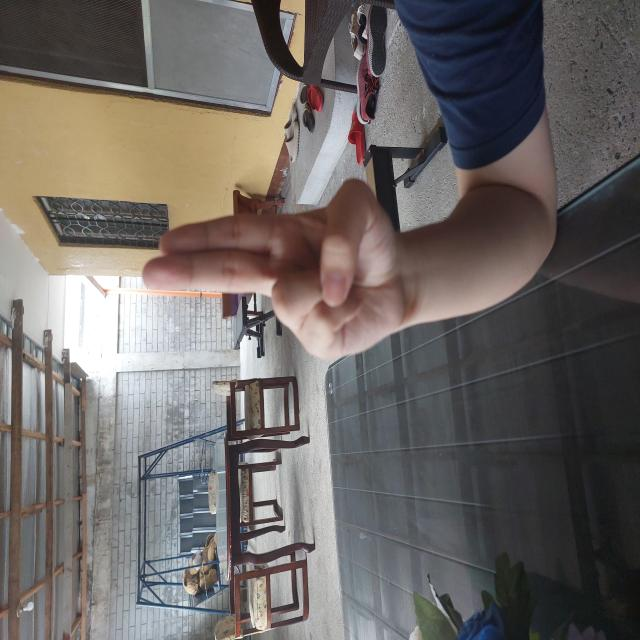U: (278, 138, 466, 412)
